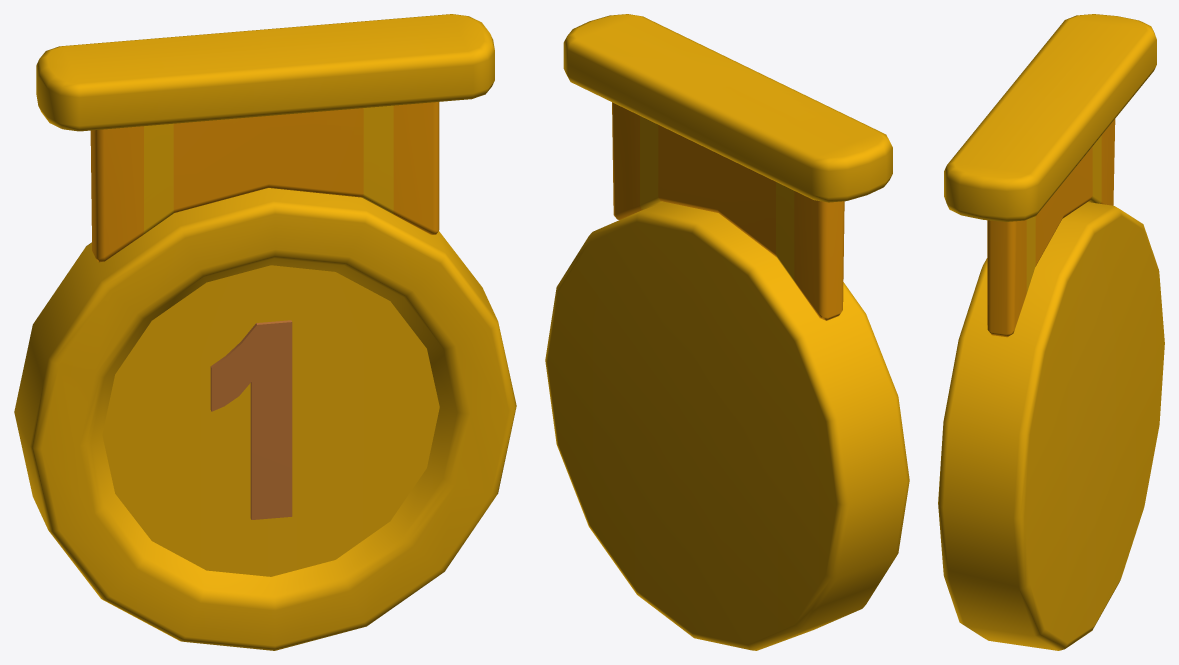
3 renders of one model, left to right at view 1: azimuth 30°, elevation 25°; view 2: azimuth 150°, elevation 25°; view 3: azimuth 270°, elevation 25°, orthographic. The views are drawn at different scales.
Parts seen in each view (by area): view 1: model_1.091; view 2: model_1.091; view 3: model_1.091.
Boxes of the visible parts, bbox=[...] form: model_1.091: bbox=[14, 14, 516, 650]; model_1.091: bbox=[545, 14, 909, 650]; model_1.091: bbox=[938, 14, 1164, 650].
Bounding box in the file's own units: 3.39 × 4.42 × 1.71.
